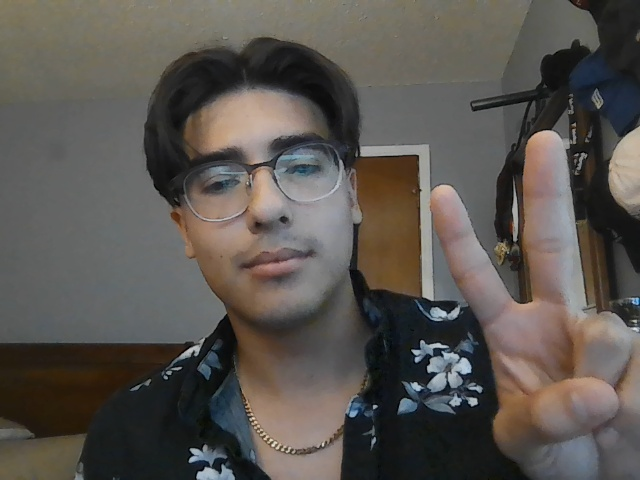PeaceSign: (429, 131, 640, 480)
